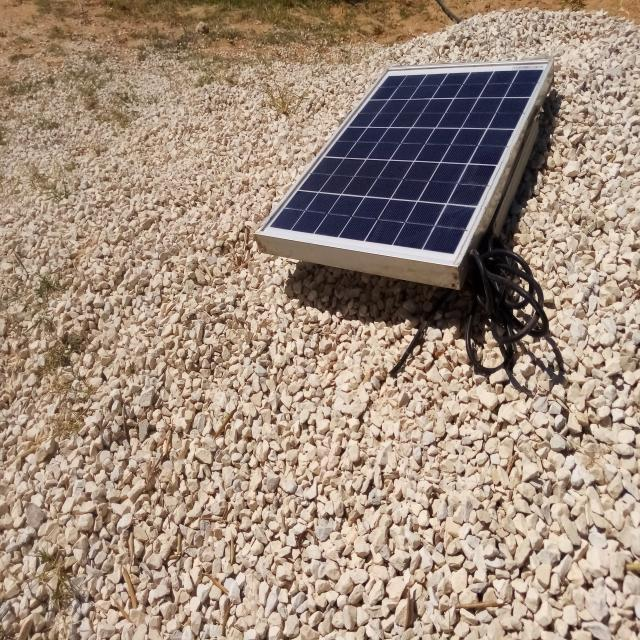no faulty: (257, 60, 552, 265)
